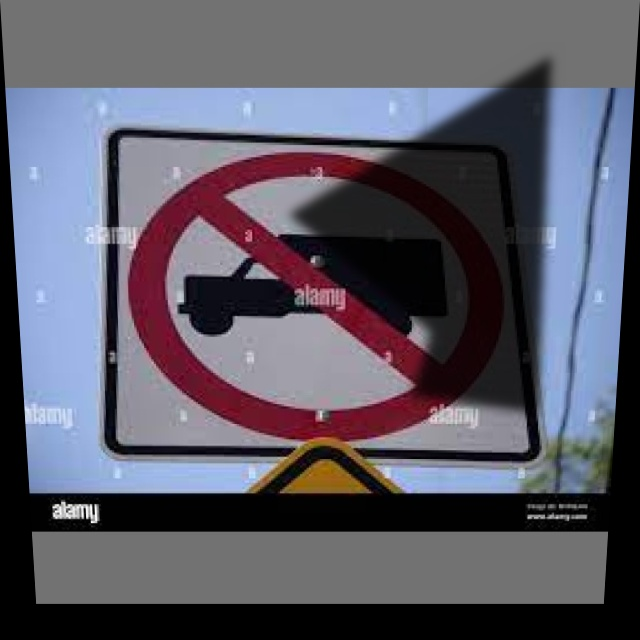Truck_Prohibited: (125, 147, 523, 437)
